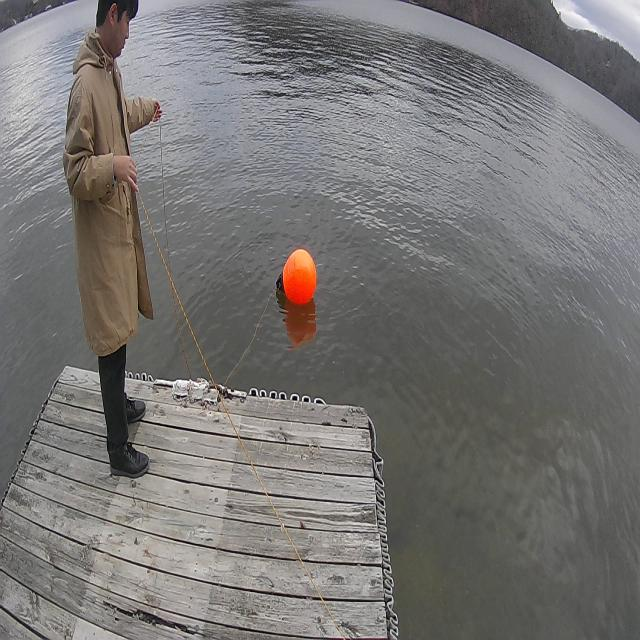Buoy: (275, 242, 320, 318)
